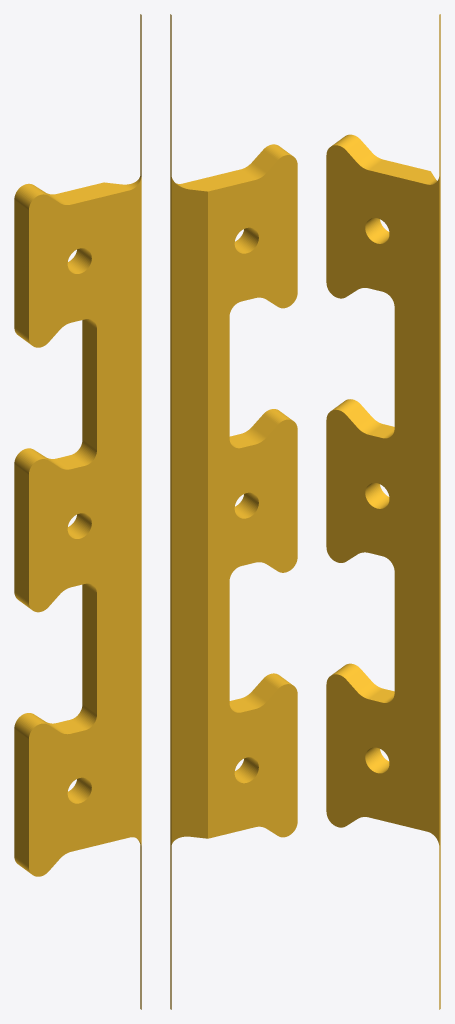
File: narrow-right-bottom-flap.glb
3 views of the same model, side by side, from view 1: azimuth 30°, elevation 25°; view 2: azimuth 210°, elevation 25°; view 3: azimuth 330°, elevation 25° (orthographic).
Visible parts, largest first — view 1: narrow-right-bottom-flap; view 2: narrow-right-bottom-flap; view 3: narrow-right-bottom-flap.
Part boxes in pixels (left/top/right/bottom): narrow-right-bottom-flap: left=14, top=14, right=141, bottom=1009; narrow-right-bottom-flap: left=170, top=14, right=297, bottom=1009; narrow-right-bottom-flap: left=326, top=14, right=440, bottom=1009.
Bounding box in the file's own units: 107 × 905 × 24.
